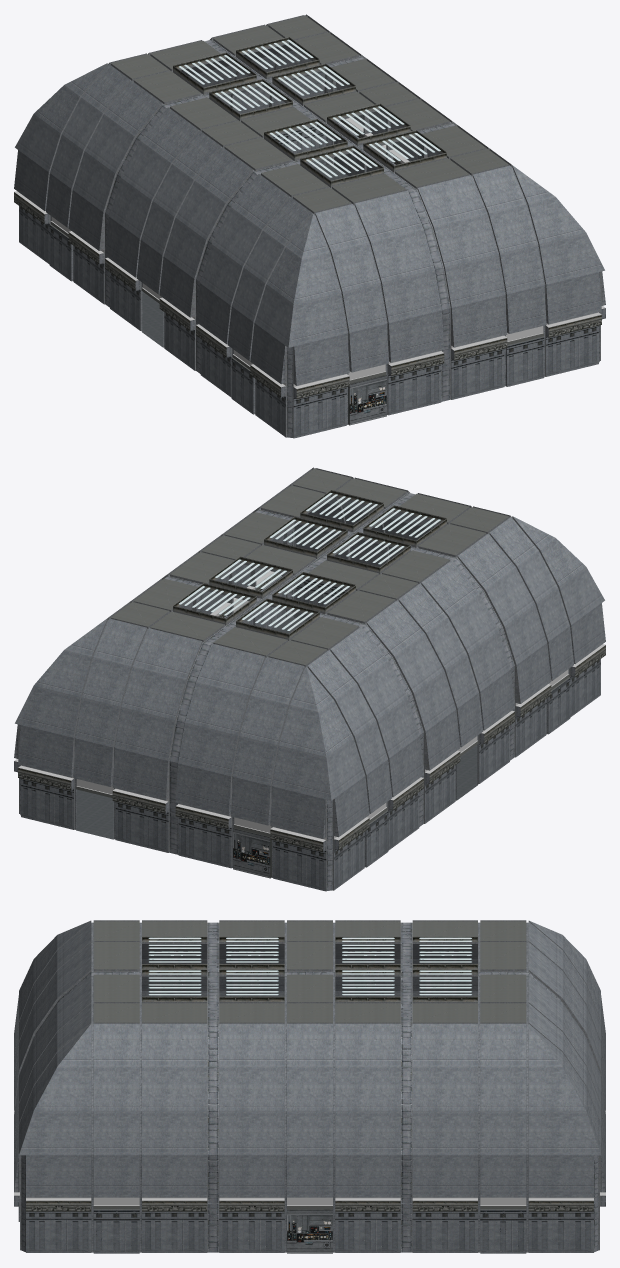
Rendered from poi_all_impl_bunker_small_outpost_s01_r43_reactor_mesh.fbx.
3 renders of one model, top to bottom at view 1: azimuth 30°, elevation 25°; view 2: azimuth 150°, elevation 25°; view 3: azimuth 270°, elevation 25°, orthographic. The views are drawn at different scales.
Parts seen in each view (by area): view 1: mesh_node; view 2: mesh_node; view 3: mesh_node.
Boxes of the visible parts, <box> form: mesh_node: <box>14,14,605,438</box>; mesh_node: <box>14,467,605,891</box>; mesh_node: <box>14,920,605,1253</box>.
Bounding box in the file's own units: 33 × 18.7 × 49.
